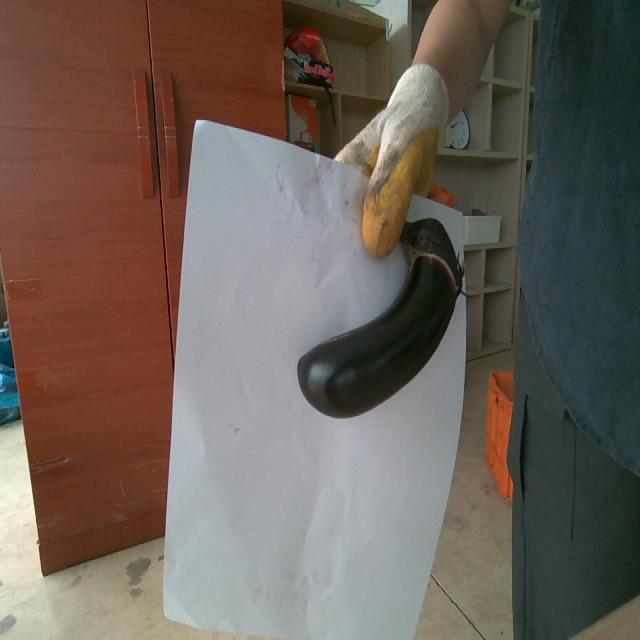Egg plant: (297, 219, 463, 417)
